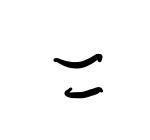eqv: (54, 54, 103, 99)
